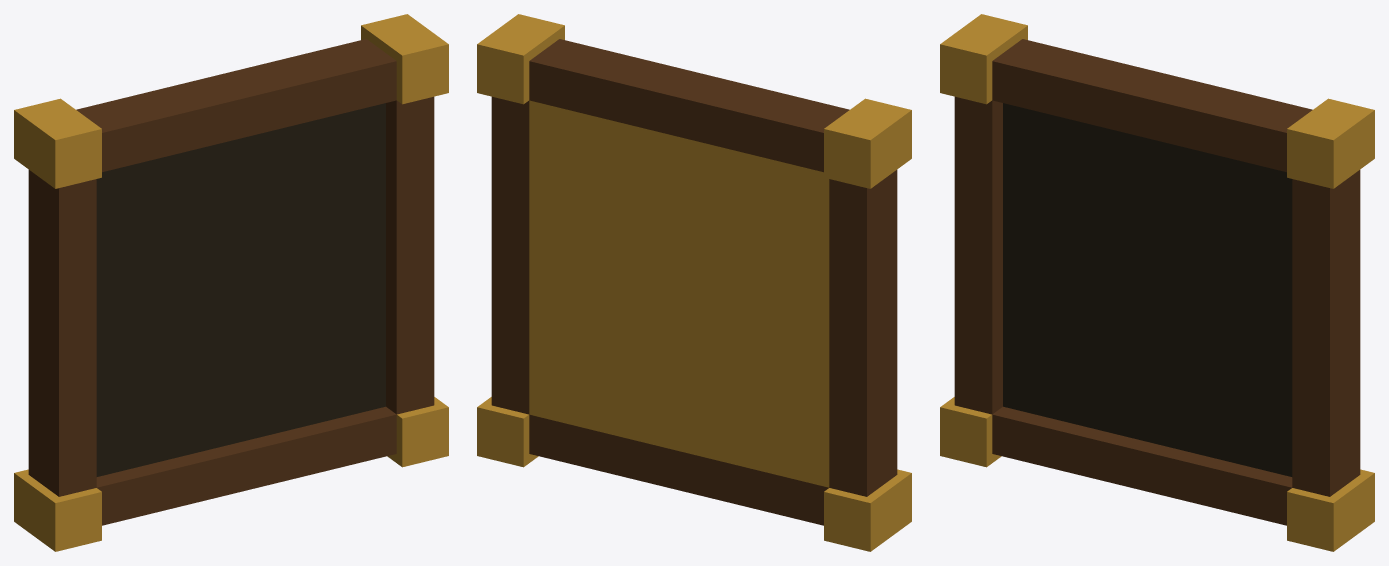
Rendered from CuadroCuadrado.fbx.
3 views of the same model, side by side, from view 1: azimuth 30°, elevation 25°; view 2: azimuth 150°, elevation 25°; view 3: azimuth 330°, elevation 25° (orthographic).
Visible parts, largest first — view 1: Cube; view 2: Cube; view 3: Cube.
Part boxes in pixels (x1,y1,x2,y2): Cube: (14,14,448,551); Cube: (477,14,911,551); Cube: (940,14,1374,551).
Size of the model in its own units: 1 by 1 by 0.1821.
